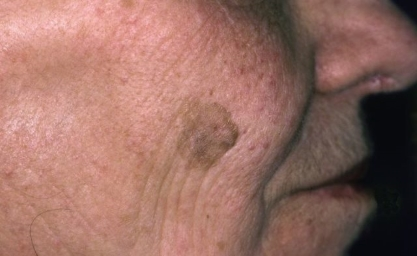seborrheic keratosis: (132, 63, 262, 190)
